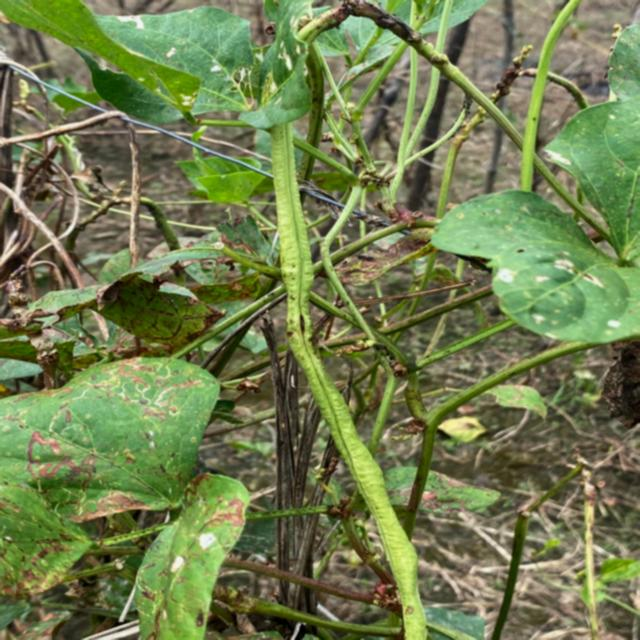11: (272, 124, 426, 640)
sitaw-aphid-low: (0, 358, 249, 640)
